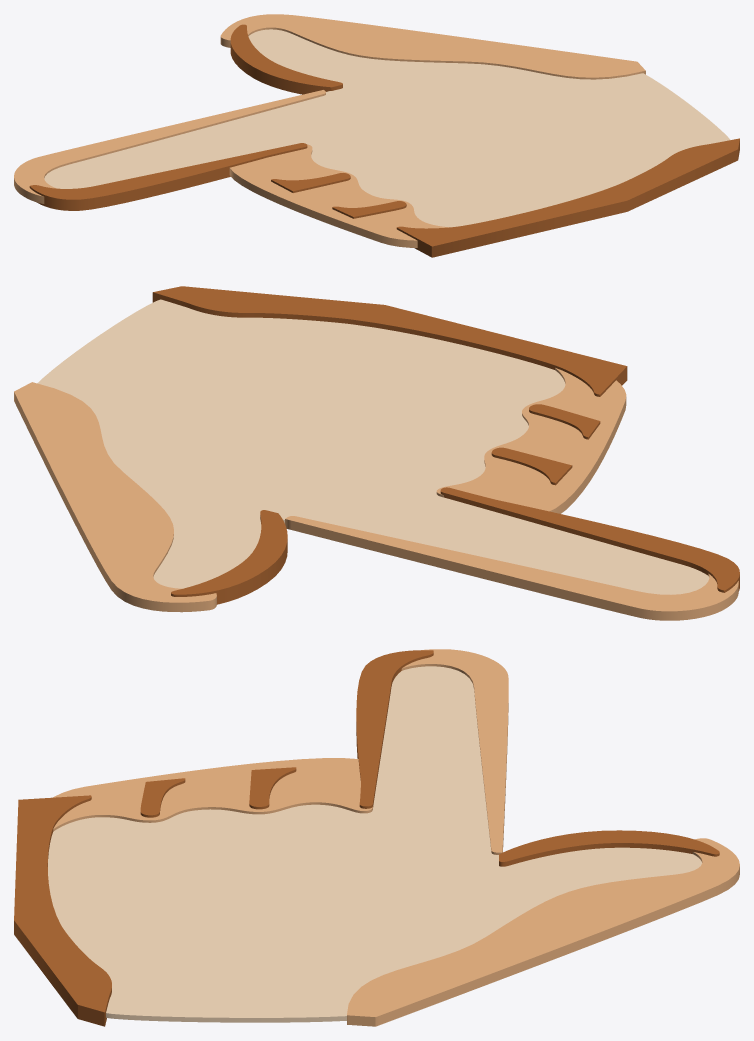
The model's file is emoji_u1f448_1f3fb.glb.
The picture shows the model from 3 angles, top to bottom: view 1: azimuth 30°, elevation 25°; view 2: azimuth 150°, elevation 25°; view 3: azimuth 270°, elevation 25°; orthographic projection. The views are drawn at different scales.
Visible parts, largest first — view 1: emoji_u1f448_1f3fb; view 2: emoji_u1f448_1f3fb; view 3: emoji_u1f448_1f3fb.
Part boxes in pixels (x1,y1,x2,y2): emoji_u1f448_1f3fb: (14,14,739,257); emoji_u1f448_1f3fb: (14,286,739,620); emoji_u1f448_1f3fb: (14,649,739,1026).
Size of the model in its own units: 0.0331 by 0.0006 by 0.0276.
